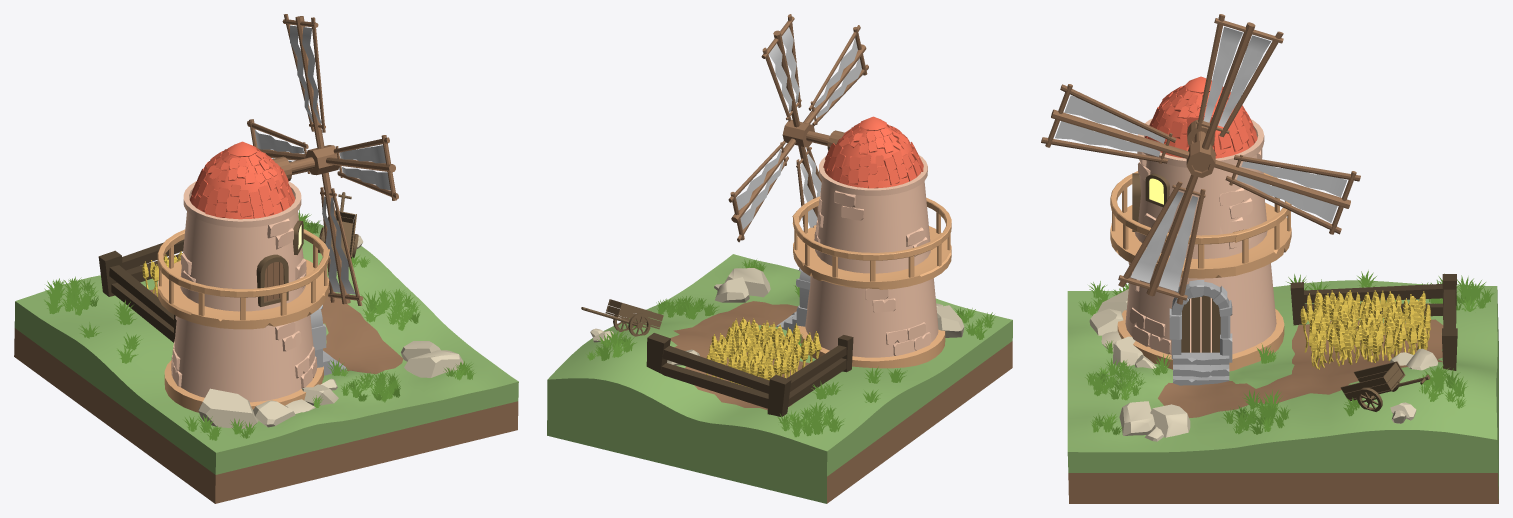
The model's file is wheat_farm_at_sunset.glb.
3 views of the same model, side by side, from view 1: azimuth 30°, elevation 25°; view 2: azimuth 150°, elevation 25°; view 3: azimuth 270°, elevation 25° (orthographic). The views are drawn at different scales.
Parts seen in each view (by area): view 1: Plane, Circle, Plane.005, Cube.031, Cube.016, Cube.027, Circle.001, Cube.006, Cube.013, Cube, Cube.004, Cube.005 (+1 smaller); view 2: Plane, Circle, Plane.005, Cube, Cube.037, Cube.031, Cube.027, Circle.001, Cube.006, Cube.013, Plane.027, Cube.005 (+1 smaller); view 3: Plane, Plane.005, Circle, Cube.037, Cube.031, Cube.027, Cube.006, Cube.013, Cube.016, Plane.001, Plane.027, Circle.001 (+6 smaller).
Boxes of the visible parts, x1,y1,x2,y2 form: Plane: (14, 223, 518, 503); Circle: (157, 150, 329, 412); Plane.005: (247, 14, 398, 305); Cube.031: (191, 147, 294, 218); Cube.016: (198, 378, 338, 428); Cube.027: (171, 218, 317, 388); Circle.001: (157, 229, 329, 297); Cube.006: (109, 265, 176, 342); Cube.013: (401, 341, 463, 377); Cube: (98, 239, 184, 296); Cube.004: (256, 254, 288, 306); Cube.005: (159, 244, 327, 320); Plane: (547, 254, 1012, 503); Circle: (793, 125, 951, 368); Plane.005: (728, 14, 868, 242); Cube: (646, 333, 791, 416); Cube.037: (706, 317, 821, 397); Cube.031: (823, 123, 923, 188); Cube.027: (814, 190, 931, 355); Circle.001: (792, 196, 951, 260); Cube.006: (787, 335, 853, 406); Cube.013: (714, 268, 770, 302); Plane.027: (581, 299, 663, 336); Cube.005: (794, 212, 950, 281); Plane: (1067, 280, 1498, 503); Plane.005: (1041, 14, 1360, 304); Circle: (1110, 86, 1291, 371); Cube.037: (1300, 290, 1430, 369); Cube.031: (1146, 85, 1257, 156); Cube.027: (1128, 148, 1263, 354); Cube.006: (1290, 282, 1442, 325); Cube.013: (1119, 401, 1190, 441); Cube.016: (1089, 289, 1156, 368); Plane.001: (1181, 295, 1220, 352); Plane.027: (1340, 361, 1430, 411); Circle.001: (1110, 171, 1291, 244).
Bounding box in the file's own units: 2.01 × 2.48 × 2.45.
